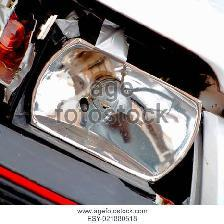broken_light: (0, 0, 212, 192)
